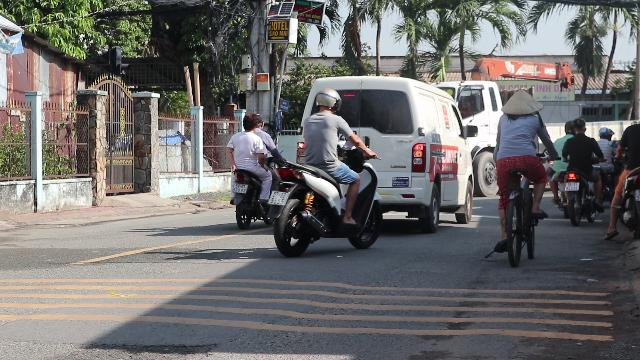helmet: (500, 88, 540, 118), (240, 112, 258, 132), (571, 117, 587, 135)
licenseplate: (308, 86, 339, 114)
motorcyclist: (271, 82, 384, 256), (550, 115, 604, 225), (225, 112, 275, 230), (608, 101, 640, 241)
nohelmet: (268, 192, 288, 205), (232, 184, 246, 192), (564, 182, 578, 190)
